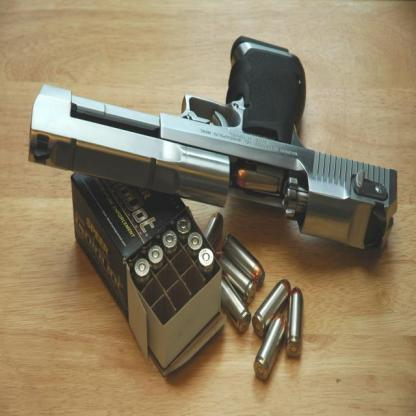handgun: (27, 35, 398, 257)
